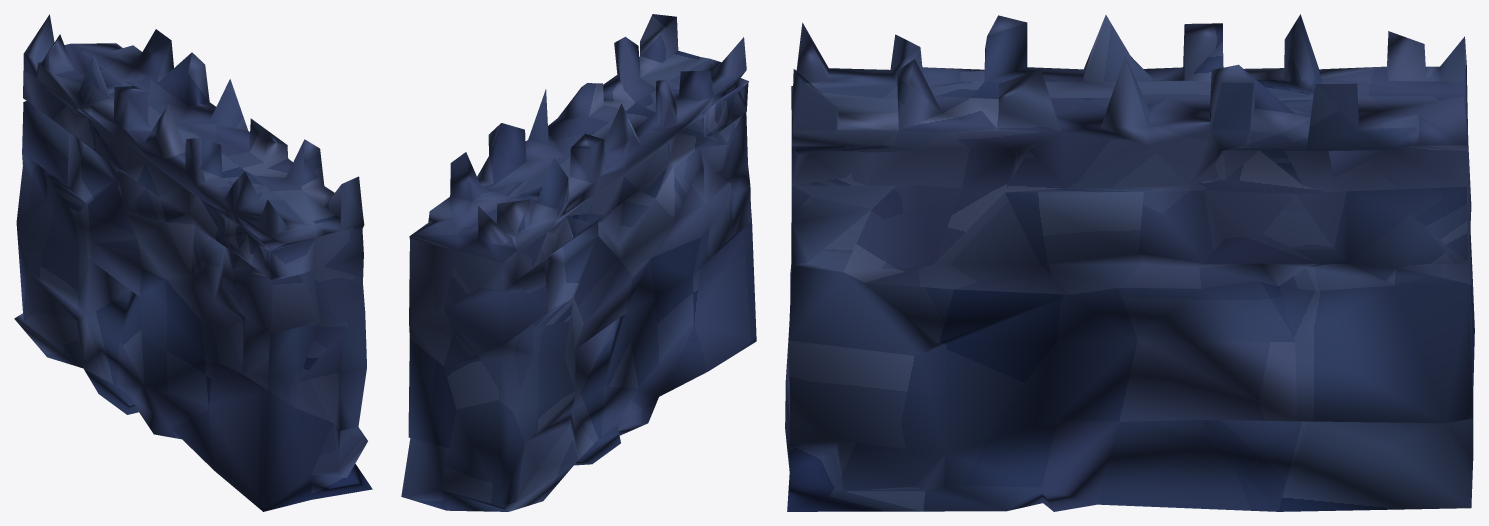
Rendered from castle_wall_diamond_blue_lo.glb.
3 views of the same model, side by side, from view 1: azimuth 30°, elevation 25°; view 2: azimuth 150°, elevation 25°; view 3: azimuth 270°, elevation 25° (orthographic). The views are drawn at different scales.
Parts seen in each view (by area): view 1: tripo_node_4d6723c9-b4d3-45b2-8bd0-0aed83f6a9ae; view 2: tripo_node_4d6723c9-b4d3-45b2-8bd0-0aed83f6a9ae; view 3: tripo_node_4d6723c9-b4d3-45b2-8bd0-0aed83f6a9ae.
Boxes of the visible parts, x1,y1,x2,y2 form: tripo_node_4d6723c9-b4d3-45b2-8bd0-0aed83f6a9ae: [14, 14, 372, 511]; tripo_node_4d6723c9-b4d3-45b2-8bd0-0aed83f6a9ae: [401, 14, 756, 511]; tripo_node_4d6723c9-b4d3-45b2-8bd0-0aed83f6a9ae: [785, 14, 1474, 511].
Bounding box in the file's own units: 0.2632 × 0.6937 × 0.9773.
Materials: 1 (1 with a texture image).
